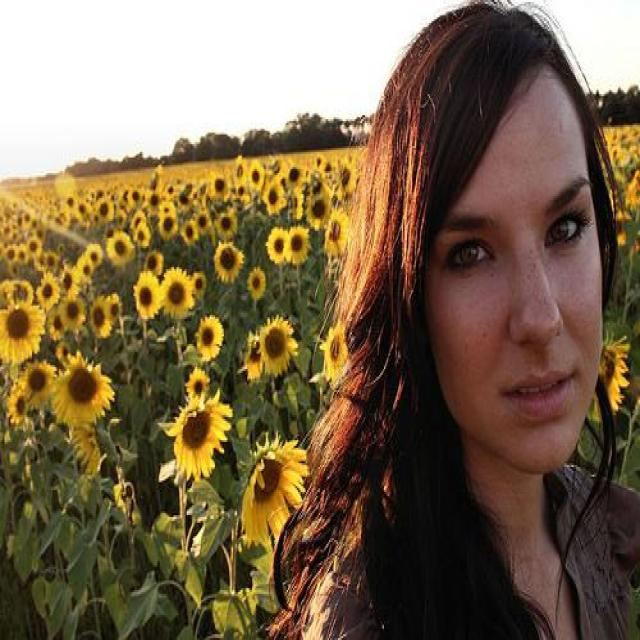sunflower: (244, 434, 306, 550), (164, 397, 230, 479), (54, 352, 114, 432), (0, 299, 47, 363), (261, 317, 301, 375), (160, 267, 192, 319), (19, 359, 54, 402), (132, 271, 161, 319), (213, 242, 243, 283), (195, 317, 222, 361), (58, 295, 86, 335), (107, 231, 135, 269), (326, 326, 346, 376), (5, 386, 28, 429), (206, 167, 234, 202), (88, 297, 110, 335), (266, 230, 292, 262), (285, 226, 310, 258), (184, 370, 209, 401), (36, 273, 57, 309), (247, 162, 265, 194), (59, 261, 75, 296)
